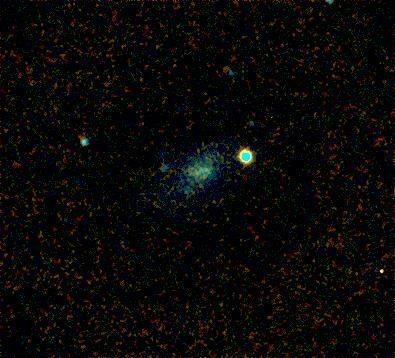star: (365, 255, 395, 285)
